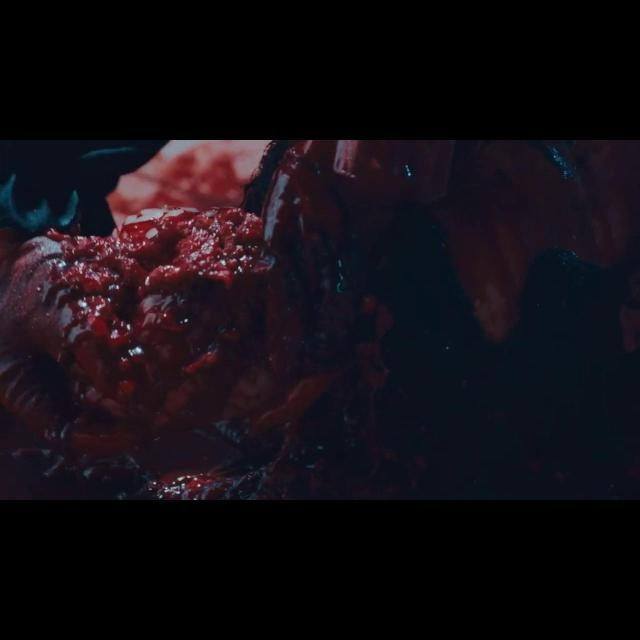blood: (0, 140, 640, 499)
